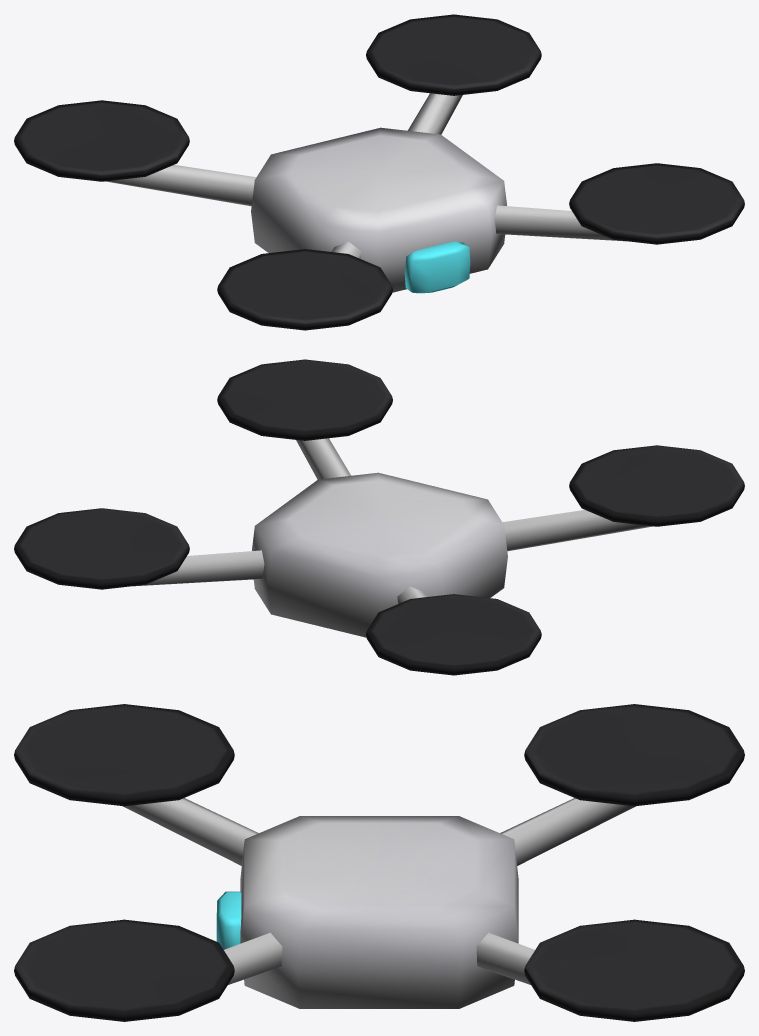
Rendered from drone.glb.
3 views of the same model, one above another, from view 1: azimuth 30°, elevation 25°; view 2: azimuth 150°, elevation 25°; view 3: azimuth 270°, elevation 25° (orthographic). The views are drawn at different scales.
Parts seen in each view (by area): view 1: drone; view 2: drone; view 3: drone.
Boxes of the visible parts, x1,y1,x2,y2 form: drone: (14, 14, 744, 330); drone: (14, 359, 744, 675); drone: (14, 704, 744, 1021).
Size of the model in its own units: 0.4012 by 0.063 by 0.4012.
Materials: 1 (1 with a texture image).
